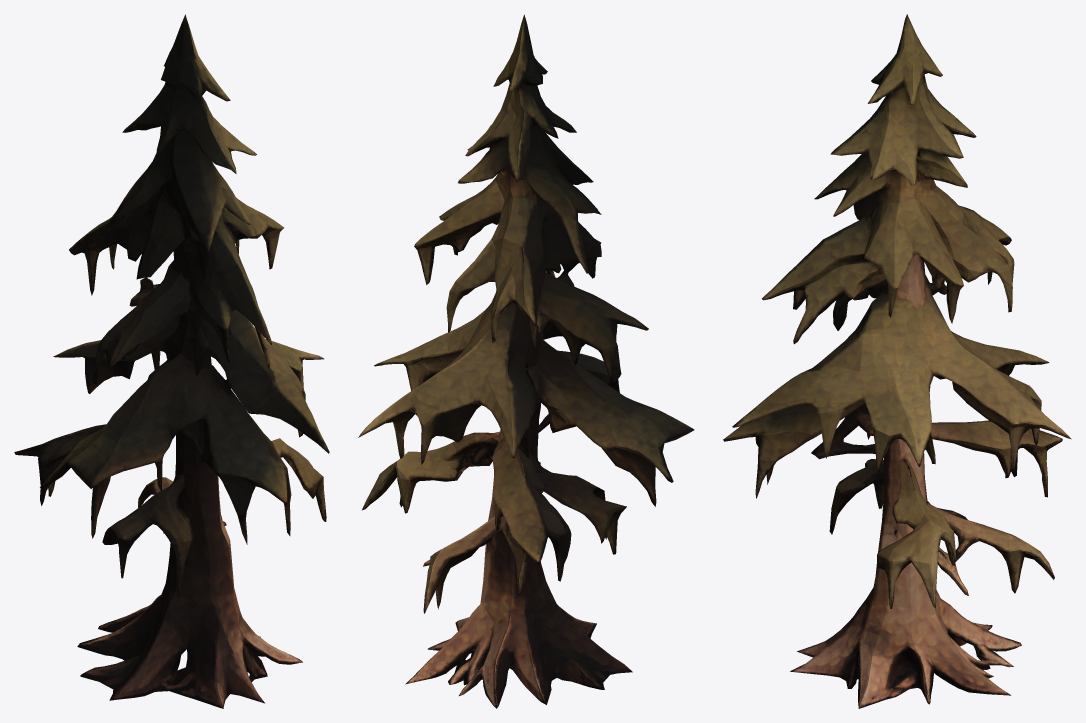
The model's file is sample (3).glb.
The picture shows the model from 3 angles, left to right: view 1: azimuth 30°, elevation 25°; view 2: azimuth 150°, elevation 25°; view 3: azimuth 270°, elevation 25°; orthographic projection.
Parts seen in each view (by area): view 1: world; view 2: world; view 3: world.
Part boxes in pixels (x1,y1,x2,y2): world: (14, 14, 329, 708); world: (358, 14, 694, 708); world: (723, 14, 1071, 708).
Bounding box in the file's own units: 0.4755 × 0.9987 × 0.4859.
1 material, 1 textured.
